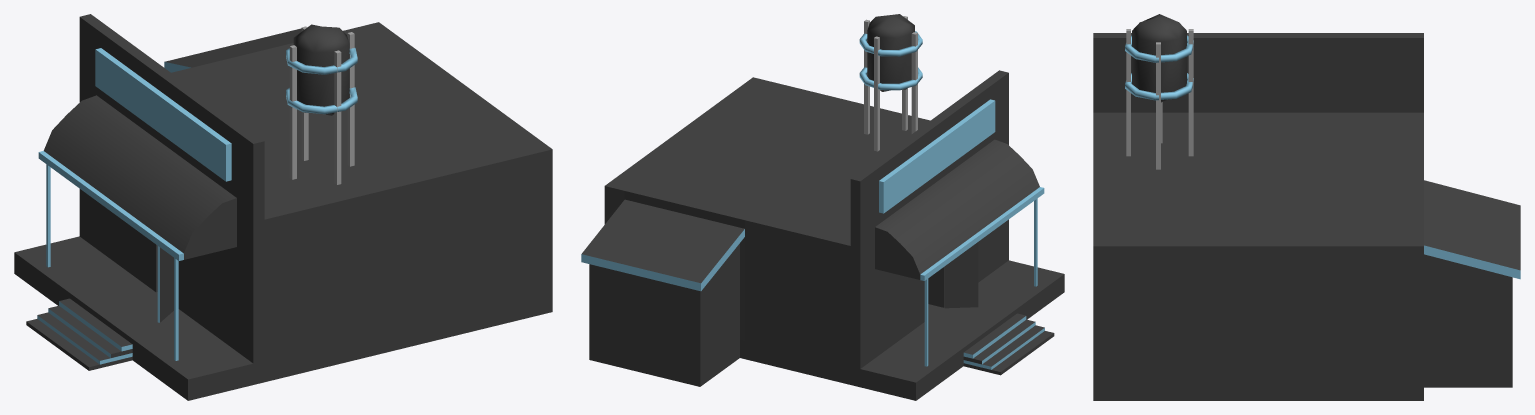
File: Building_Bar_Unwrapped.fbx
3 views of the same model, side by side, from view 1: azimuth 30°, elevation 25°; view 2: azimuth 150°, elevation 25°; view 3: azimuth 270°, elevation 25° (orthographic). The views are drawn at different scales.
Parts seen in each view (by area): view 1: Building_Bar_Unwrapped; view 2: Building_Bar_Unwrapped; view 3: Building_Bar_Unwrapped.
Boxes of the visible parts, x1,y1,x2,y2 form: Building_Bar_Unwrapped: (14, 14, 552, 400); Building_Bar_Unwrapped: (581, 14, 1064, 400); Building_Bar_Unwrapped: (1093, 14, 1520, 400).
Bounding box in the file's own units: 1099 × 793 × 1048.
